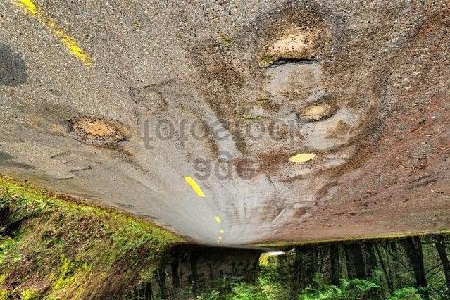pothole: (257, 25, 324, 68), (63, 114, 131, 145), (296, 94, 338, 124), (285, 149, 320, 165)
